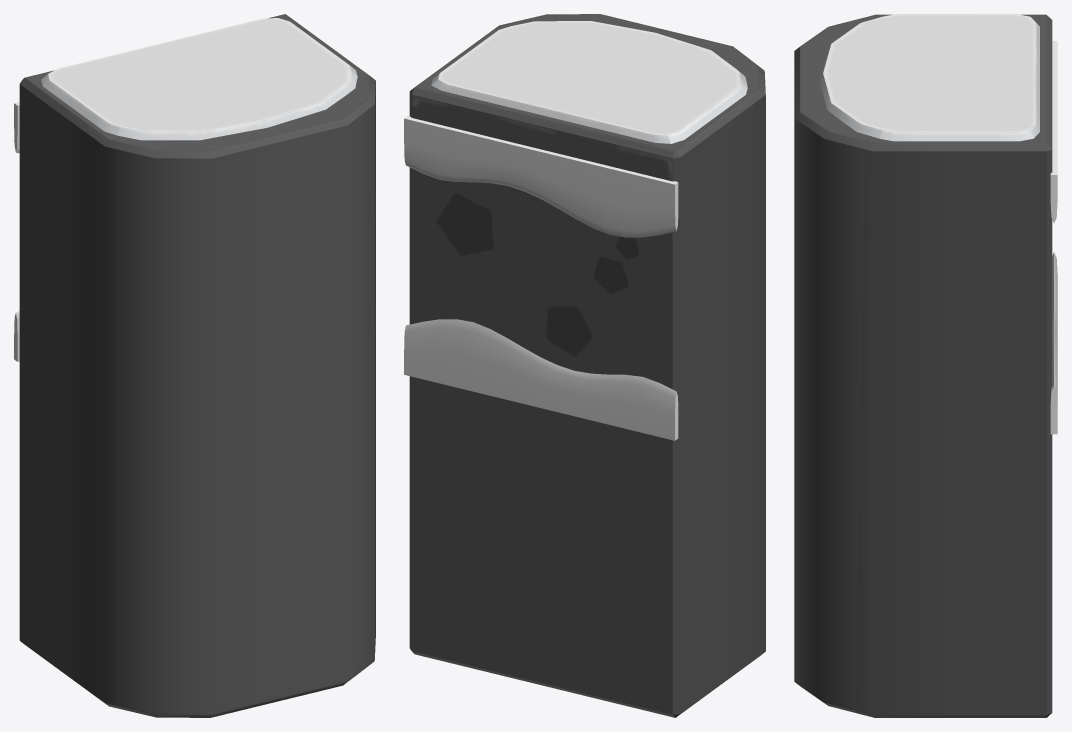
The model's file is S6_InF_Wall_001.fbx.
3 renders of one model, left to right at view 1: azimuth 30°, elevation 25°; view 2: azimuth 150°, elevation 25°; view 3: azimuth 270°, elevation 25°, orthographic.
Parts seen in each view (by area): view 1: wall16_pCube2; view 2: wall16_pCube2; view 3: wall16_pCube2.
Part boxes in pixels (x1=…): wall16_pCube2: x1=14, y1=14, x2=375, y2=717; wall16_pCube2: x1=404, y1=14, x2=765, y2=717; wall16_pCube2: x1=794, y1=14, x2=1057, y2=717.
Bounding box in the file's own units: 1 × 2.02 × 0.8313.
